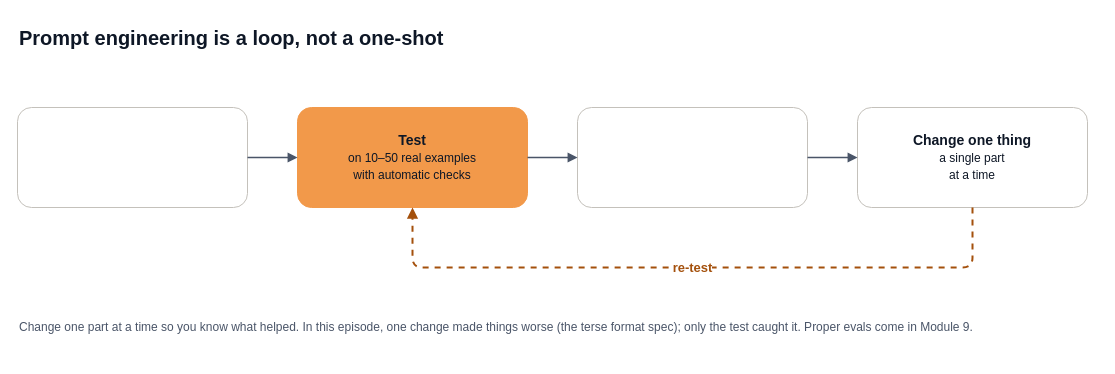
The diagram is 1115 pixels wide and 374 high, and some of its shapes have lost their labels. The shapes that lost their labels are listed below. From the top down, each one's centre as x and y in pixels, then its label:
At point 132,157: "Write a first version with all six parts".
At point 692,157: "Read failures which check fails, and why?".
